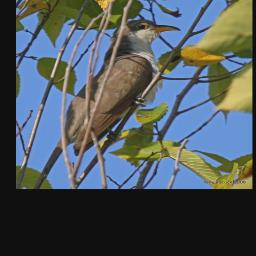Cuckoo: (63, 19, 210, 157)
